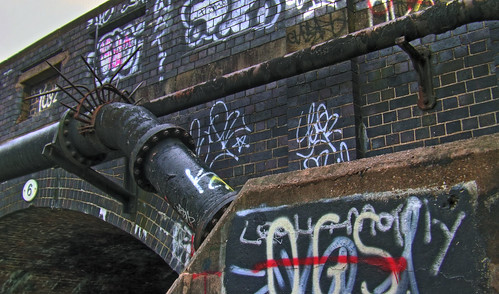graffiti: (237, 198, 467, 294), (180, 1, 289, 59), (180, 98, 259, 167), (74, 13, 150, 76), (278, 1, 360, 54), (291, 105, 357, 170), (147, 1, 180, 85), (13, 65, 66, 110)
